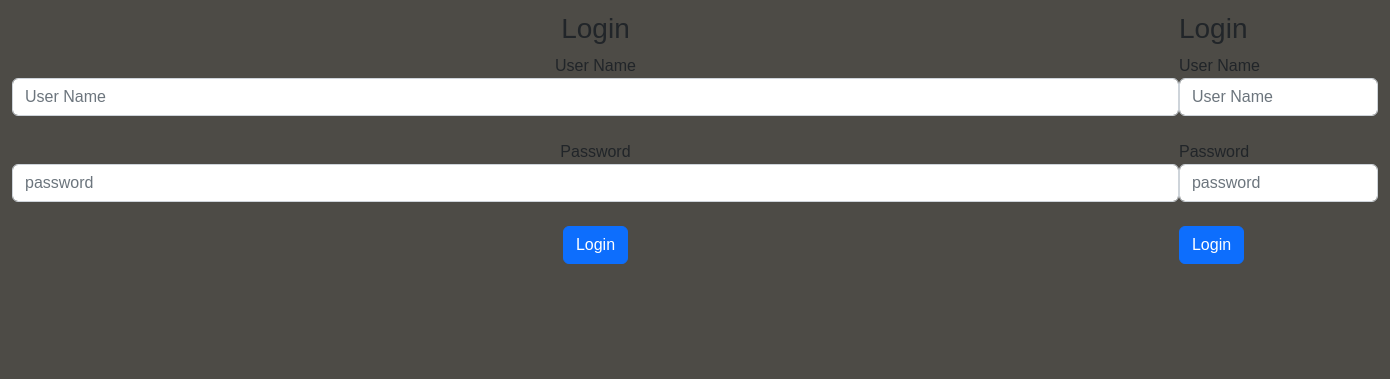
Test: LoginCom › displays an error message if the login fails
Step 1. Type "user" into the 2nd field with placeholder "User Name" → (1278, 97), box [1179,78,1378,116]
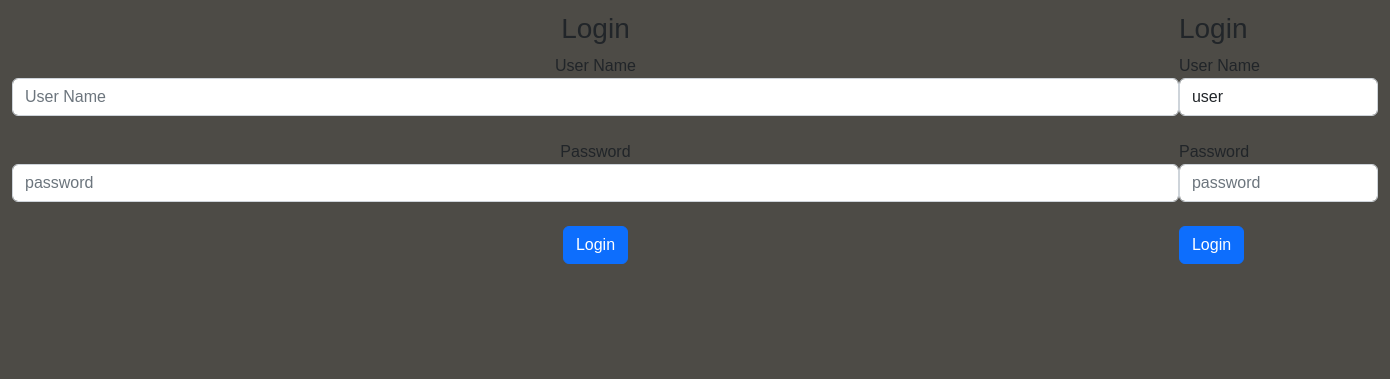
Step 2. Type "123114" into the 2nd password field with placeholder "password" → (1278, 183), box [1179,164,1378,202]
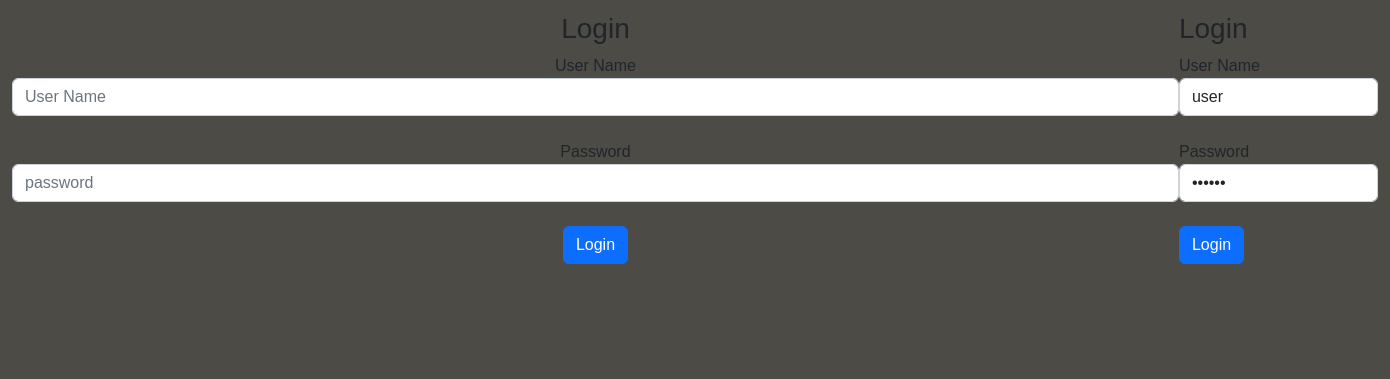
Step 3. Click the 2nd button "Login" → (1212, 245), box [1179,226,1244,264]
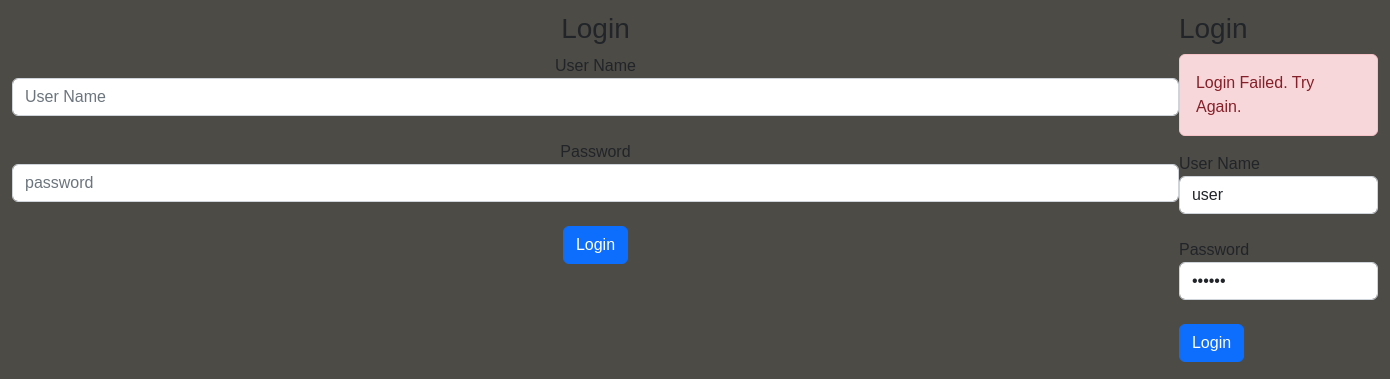
Expected: the message "Login Failed. Try Again." is shown, [1179,54,1378,136]
Expected: the message with class "alert-danger" reads "Login Failed. Try Again.", [1196,74,1314,115]
